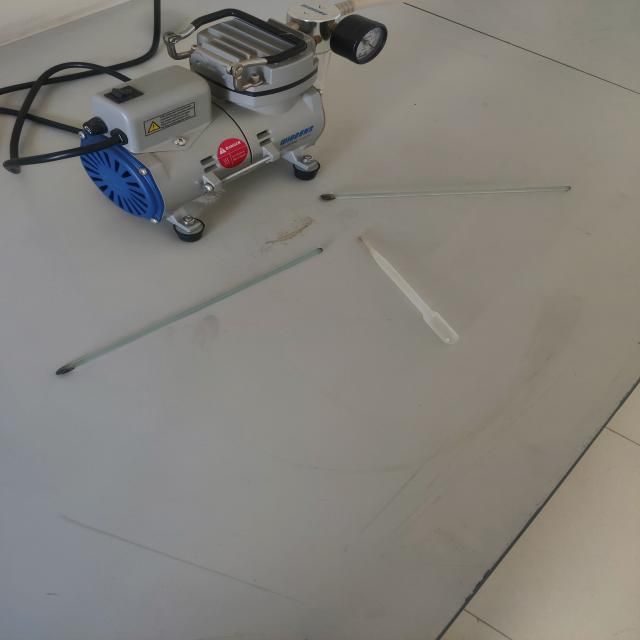Glass_Rod: (32, 237, 342, 397), (293, 172, 587, 222)
Pipette: (350, 223, 485, 367)
